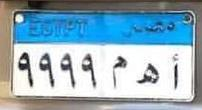9: (17, 50, 35, 88), (81, 52, 99, 88), (60, 52, 74, 87), (40, 52, 54, 87)
alif: (170, 53, 180, 90)
haa: (136, 63, 164, 85)
meem: (107, 54, 128, 89)
